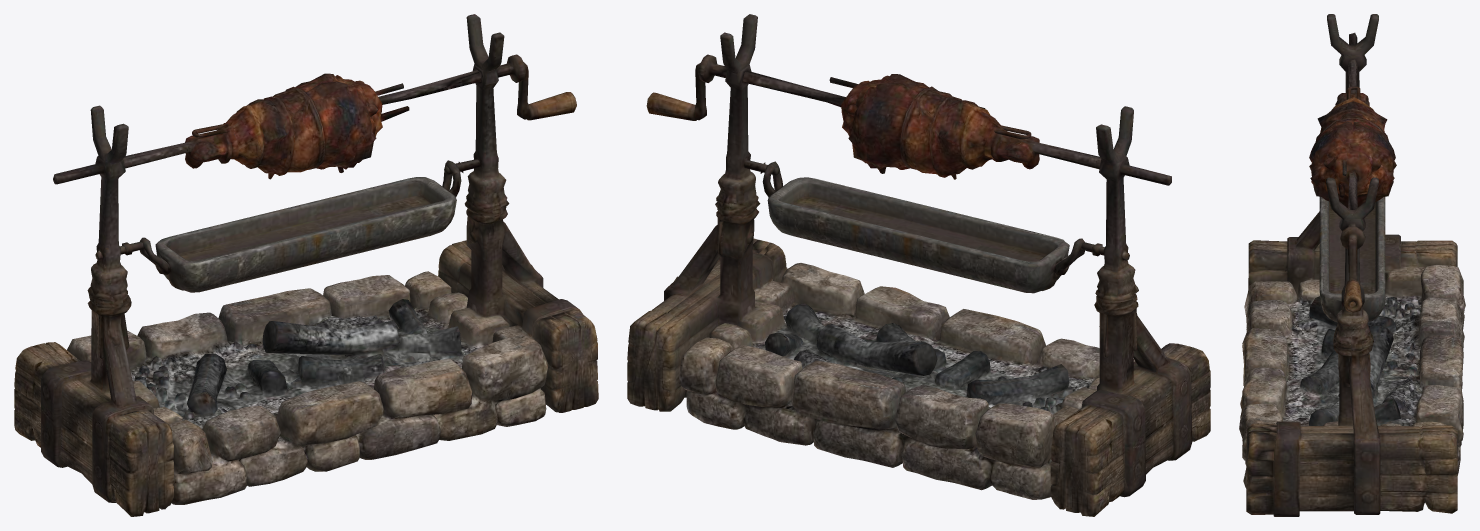
The model's file is th_spit.glb.
3 views of the same model, side by side, from view 1: azimuth 30°, elevation 25°; view 2: azimuth 150°, elevation 25°; view 3: azimuth 270°, elevation 25° (orthographic). The views are drawn at different scales.
Visible parts, largest first — view 1: th_spit; view 2: th_spit; view 3: th_spit.
Part boxes in pixels (box(x1,y1,x2,y2)): th_spit: box(14, 14, 598, 516); th_spit: box(627, 14, 1210, 516); th_spit: box(1239, 14, 1465, 516).
Size of the model in its own units: 3 by 1.97 by 1.27.
1 material, 1 textured.
